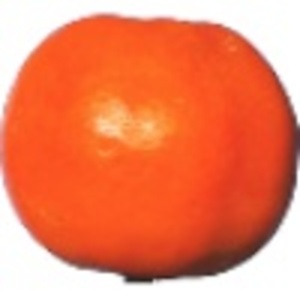tangerina: (1, 12, 300, 284)
